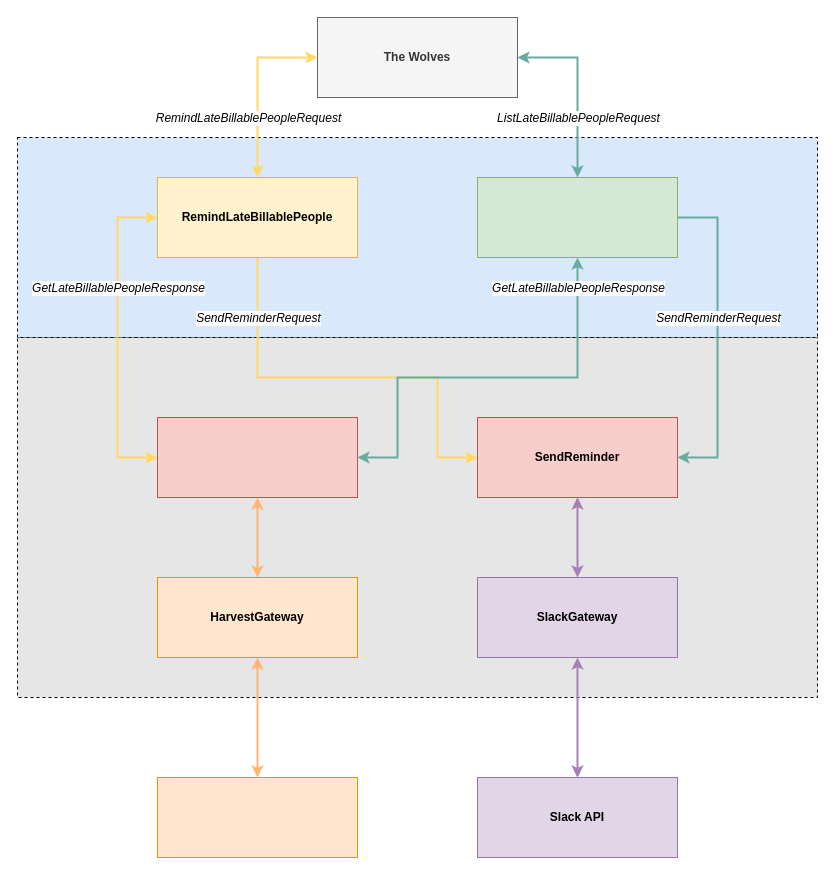
The diagram is 835 pixels wide and 875 high, and some of its shapes have lost their labels. The box of each missing label's shape, as (x1, y1, x2, y2) in pixels:
GetLateBillablePeople: (156, 416, 358, 498)
Harvest API: (156, 776, 358, 858)
ListLateBillablePeople: (476, 176, 678, 258)
